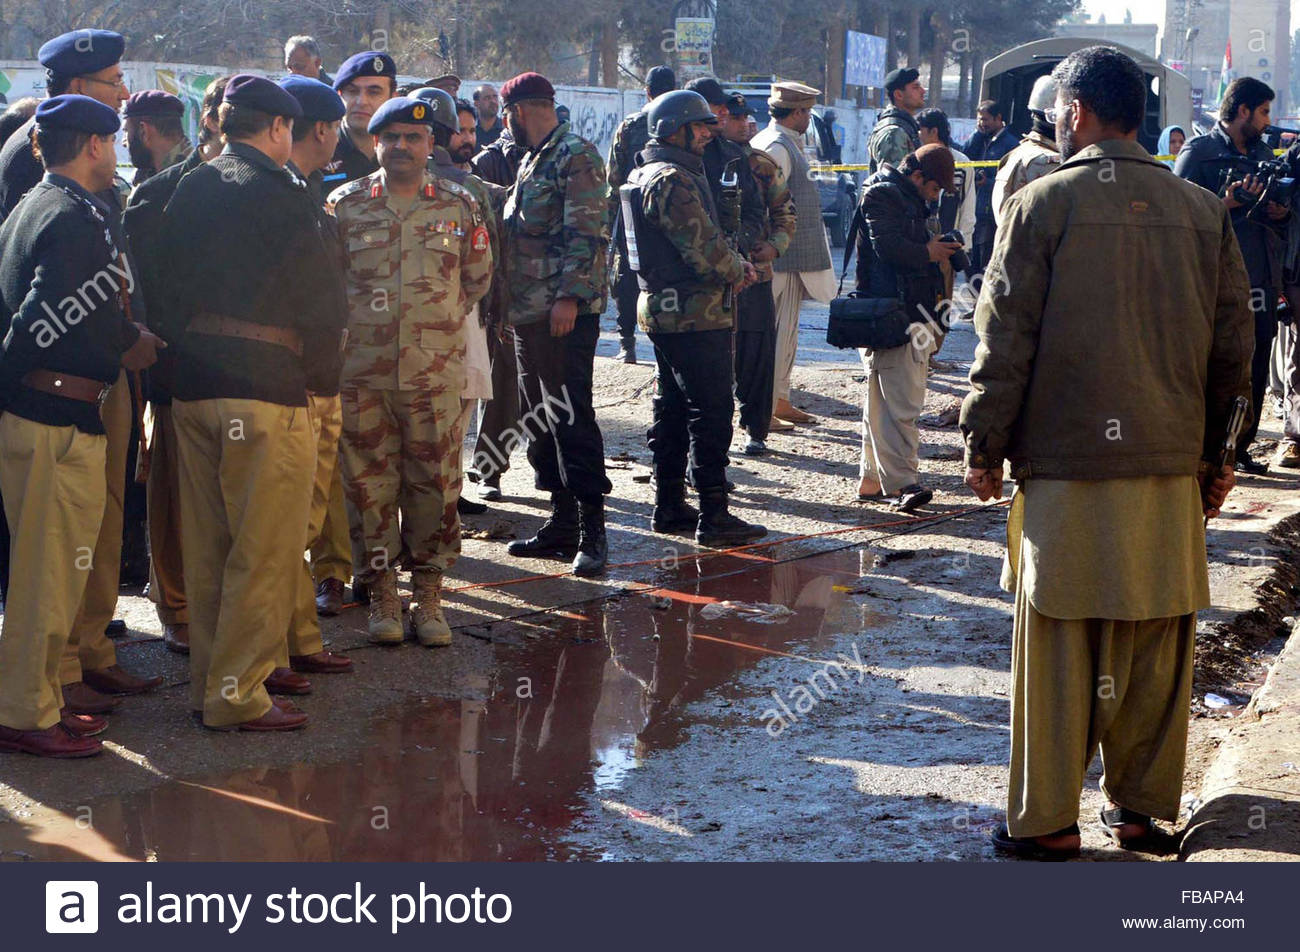person: (169, 45, 523, 795), (992, 68, 1289, 871), (625, 38, 946, 567), (10, 37, 149, 748), (500, 63, 639, 576), (844, 55, 965, 573)
